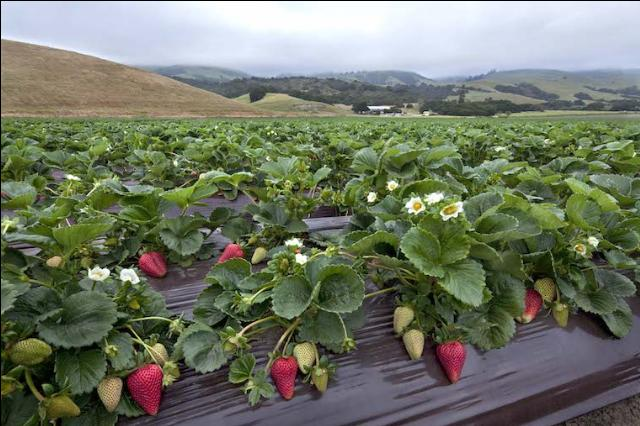Strawberries: (126, 365, 166, 417), (438, 341, 466, 383), (273, 356, 297, 400), (137, 250, 167, 278), (520, 288, 542, 324), (220, 244, 242, 260)
